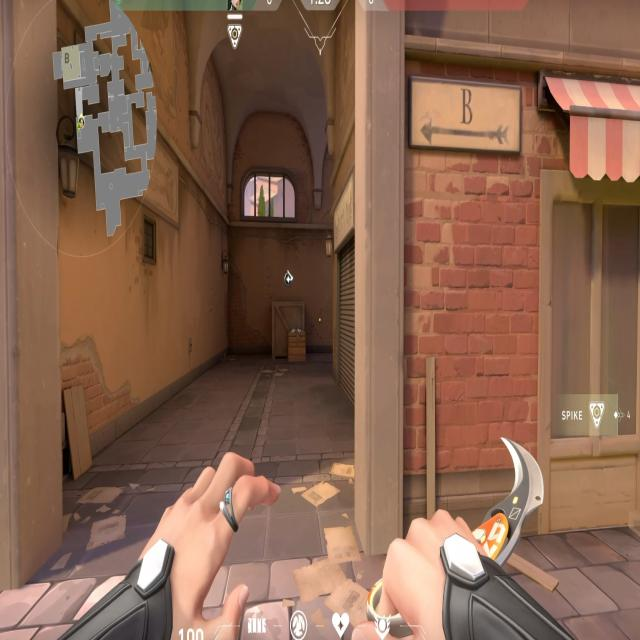B_Main_Wallbang: (268, 260, 311, 370)
Throwables: (238, 160, 300, 225)
